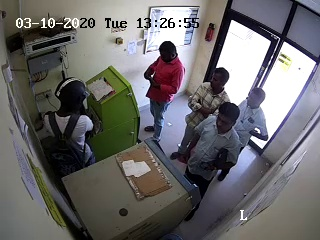helmet: (54, 77, 93, 121)
